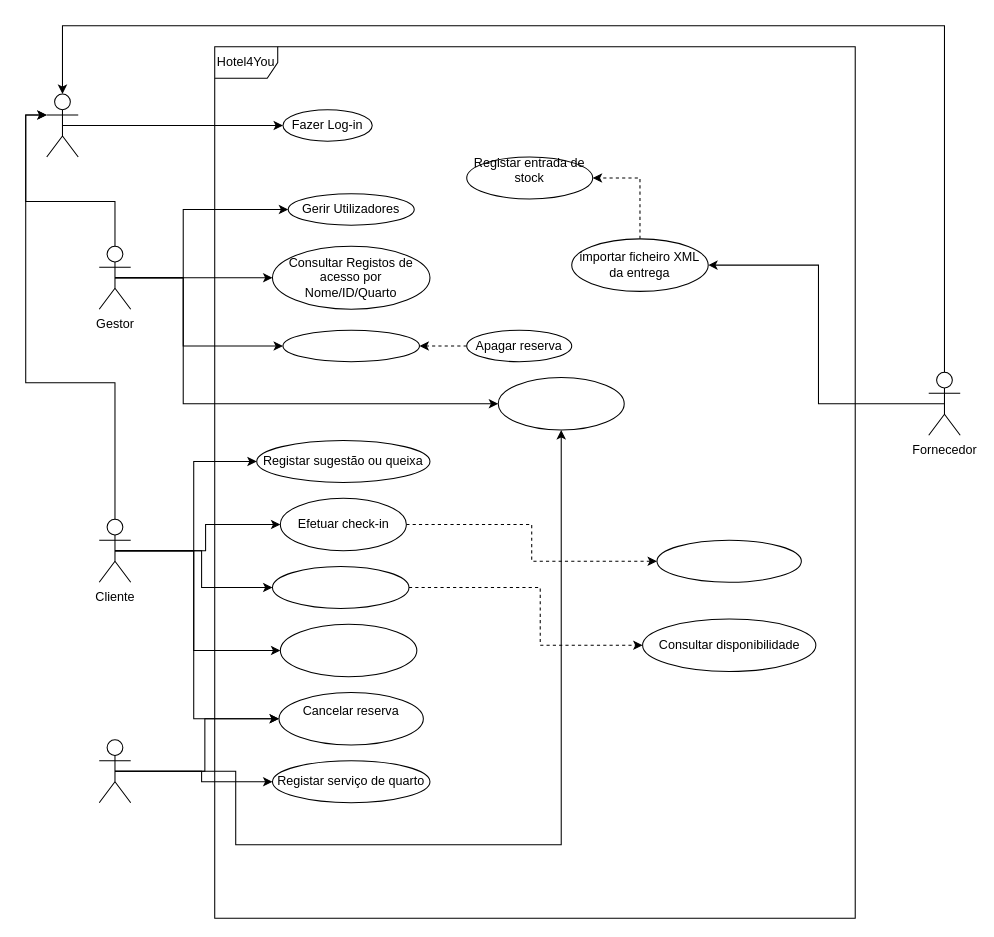
This 994x937 diagram has some shape labels left out. The centre of each missing label's shape, as x and y in pixels:
Atribuir cartão magnético: the point at 728,560
Consultar Reservas: the point at 350,345
Criar reserva: the point at 340,586
Efetuar check-out: the point at 348,650
Funcionário: the point at 114,771
Registar utilização de stock: the point at 560,403
Utilizador: the point at 62,125
